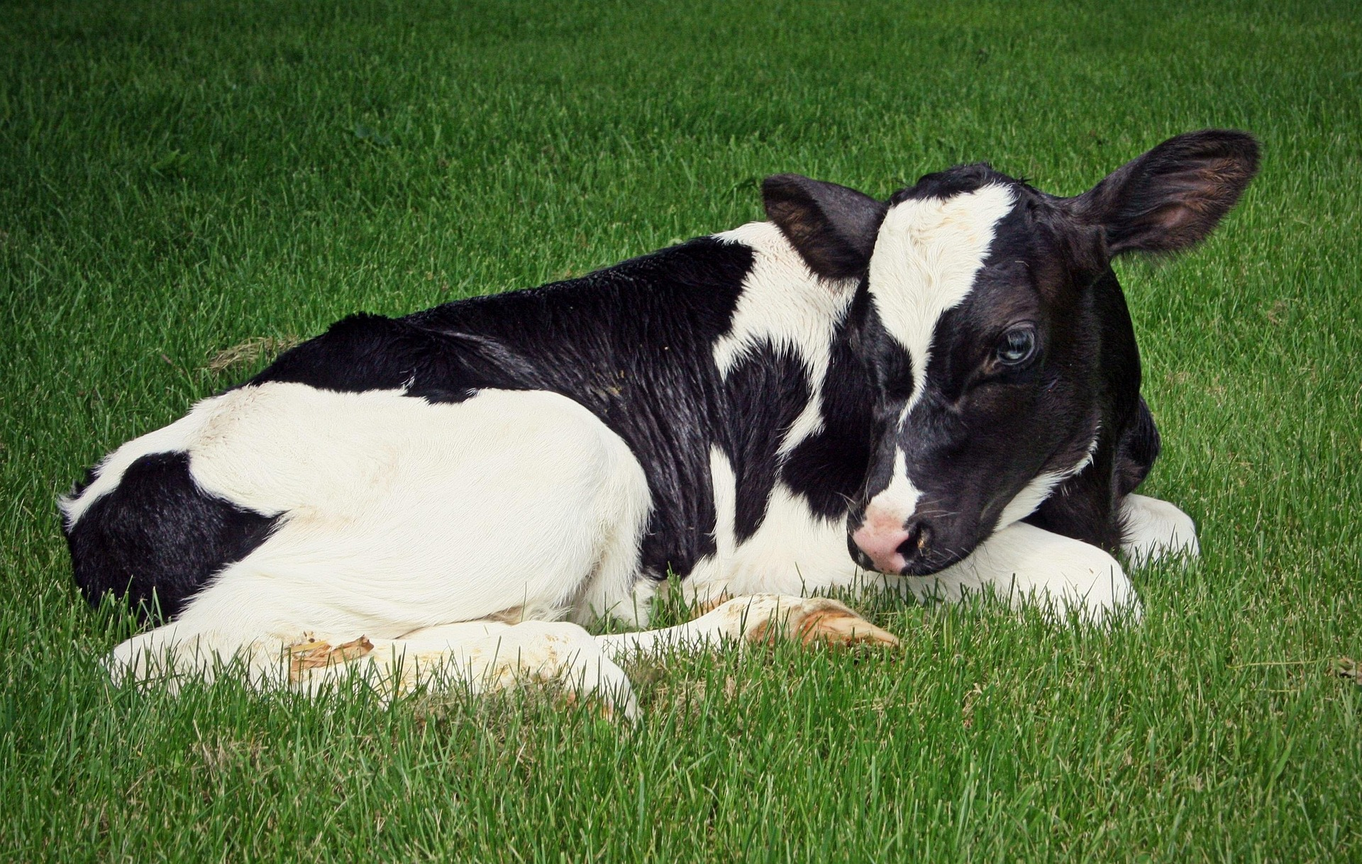bovino: (57, 160, 1204, 722)
